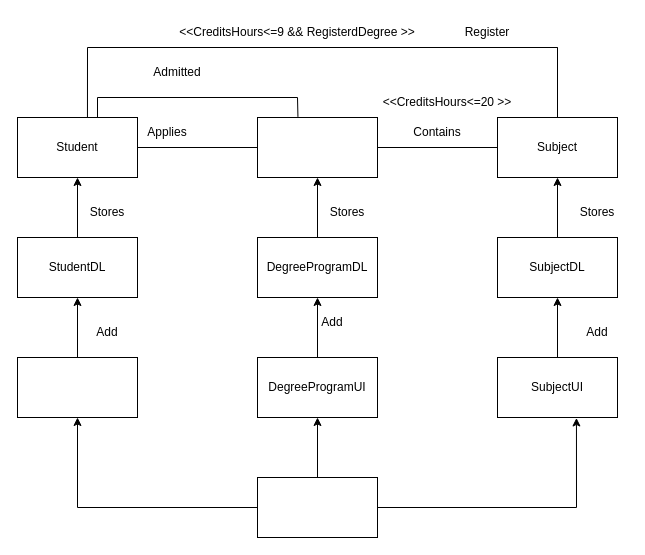
Some shapes in this 645 by 555 pixel diagram are drawn without their labels. Here are the shapes that lost their labels. From the top down, the centre of each, then its label:
At point (317, 147): "DegreeProgram".
At point (77, 387): "StudentUI".
At point (317, 507): "MenuUI".
